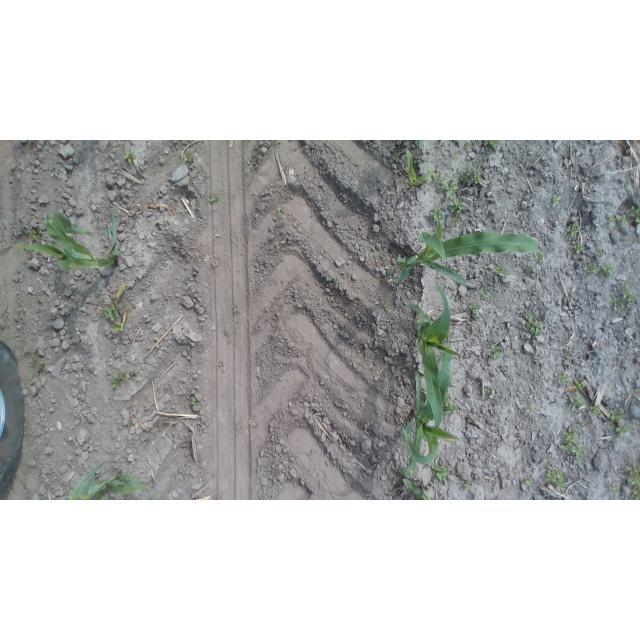Maize: (390, 223, 545, 288), (403, 338, 463, 479), (11, 203, 122, 272), (413, 280, 463, 432), (65, 457, 160, 500), (398, 469, 434, 500), (402, 152, 434, 186)
Weeds: (560, 426, 587, 467), (108, 369, 141, 391), (611, 285, 640, 309), (607, 409, 629, 439), (460, 162, 485, 186), (545, 467, 570, 489), (627, 459, 640, 500), (523, 312, 544, 334), (450, 196, 464, 226), (429, 462, 449, 482), (441, 180, 460, 201), (566, 391, 585, 411), (441, 397, 462, 415), (120, 149, 140, 167), (492, 265, 514, 280), (34, 359, 52, 377), (486, 343, 504, 361), (486, 387, 506, 403), (583, 259, 601, 276), (102, 307, 121, 322), (570, 243, 589, 258), (565, 223, 584, 238), (556, 372, 572, 389), (429, 208, 445, 224), (477, 287, 494, 302), (467, 300, 482, 317), (563, 348, 577, 366), (603, 263, 617, 281), (587, 402, 602, 418), (205, 192, 222, 206), (627, 206, 640, 224), (182, 152, 199, 165), (606, 481, 619, 497), (574, 380, 589, 393), (430, 169, 442, 185), (220, 328, 234, 341), (550, 194, 563, 208), (518, 475, 534, 486), (608, 214, 621, 227), (123, 417, 137, 429), (189, 395, 203, 407), (446, 147, 460, 159), (577, 419, 588, 434), (230, 304, 242, 317), (595, 248, 607, 261), (618, 212, 631, 224), (27, 229, 39, 241), (486, 140, 502, 149), (560, 294, 571, 307), (462, 141, 473, 154), (276, 205, 290, 215), (529, 283, 540, 294), (464, 481, 473, 494), (423, 492, 437, 500), (524, 405, 532, 416)
